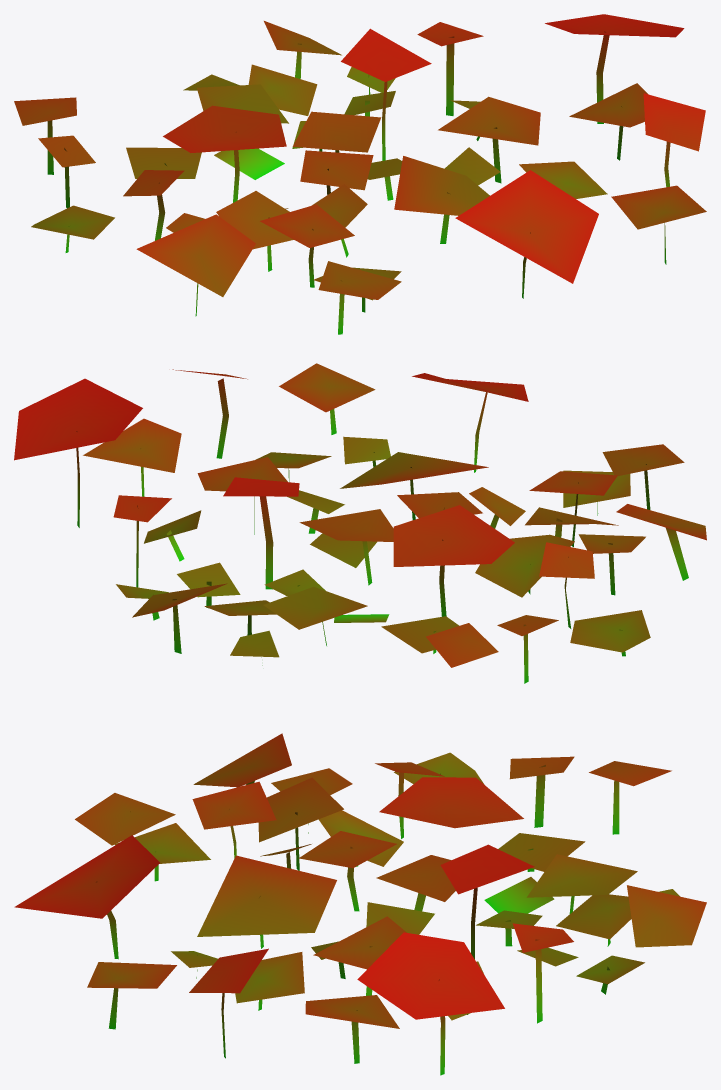
File: Var3_LOD2.fbx
The picture shows the model from 3 angles, top to bottom: view 1: azimuth 30°, elevation 25°; view 2: azimuth 150°, elevation 25°; view 3: azimuth 270°, elevation 25°; orthographic projection. The views are drawn at different scales.
Parts seen in each view (by area): view 1: _9f51_Var3_LOD2; view 2: _9f51_Var3_LOD2; view 3: _9f51_Var3_LOD2.
Boxes of the visible parts, x1,y1,x2,y2 form: _9f51_Var3_LOD2: [14, 14, 706, 334]; _9f51_Var3_LOD2: [14, 363, 706, 683]; _9f51_Var3_LOD2: [14, 733, 706, 1075].
Bounding box in the file's own units: 40.81 × 7.2 × 36.78.
